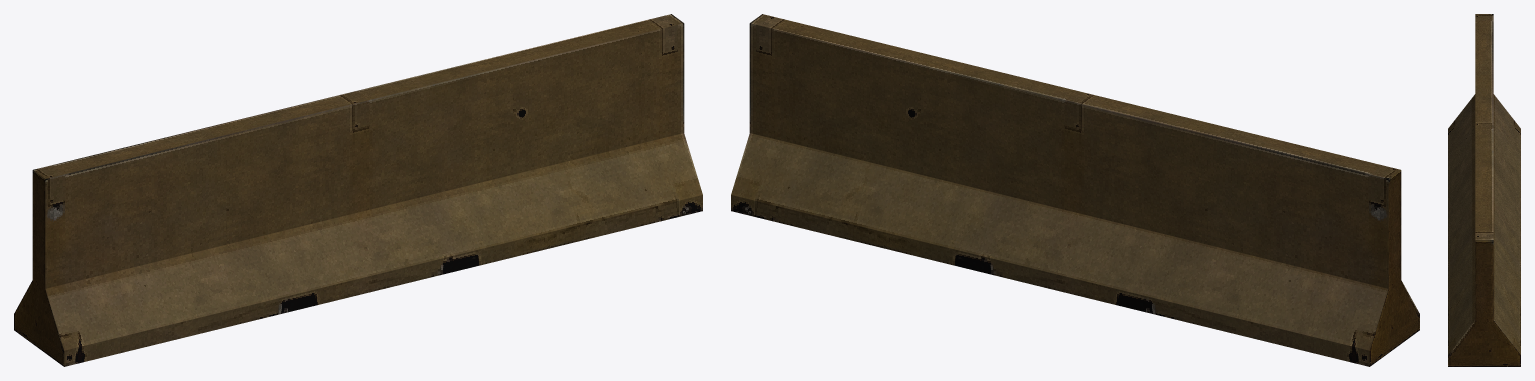
Rendered from barricade_a_1.glb.
3 views of the same model, side by side, from view 1: azimuth 30°, elevation 25°; view 2: azimuth 150°, elevation 25°; view 3: azimuth 270°, elevation 25° (orthographic). The views are drawn at different scales.
Parts seen in each view (by area): view 1: barricade_a_1; view 2: barricade_a_1; view 3: barricade_a_1.
Boxes of the visible parts, x1,y1,x2,y2 form: barricade_a_1: (14, 14, 702, 366); barricade_a_1: (731, 14, 1419, 366); barricade_a_1: (1448, 14, 1520, 366).
Bounding box in the file's own units: 2.94 × 0.766 × 0.4.
Materials: 1 (1 with a texture image).
